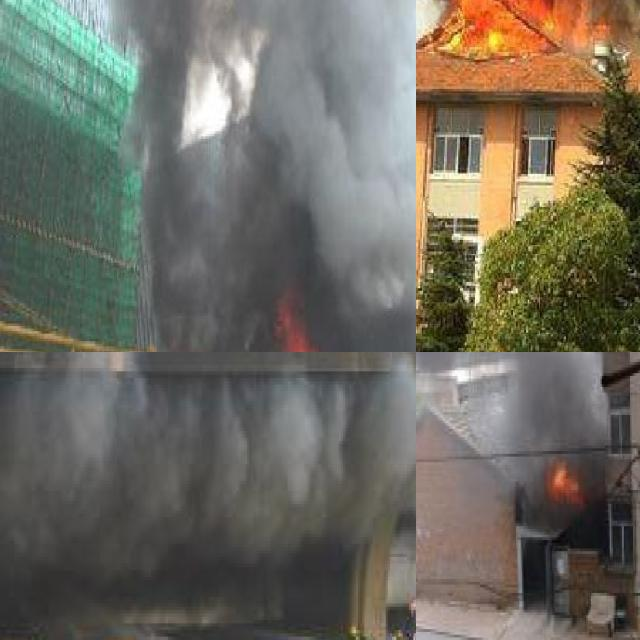fire: (436, 0, 607, 57), (279, 306, 319, 352), (547, 454, 582, 495)
smoke: (100, 0, 416, 352), (0, 359, 416, 573), (416, 352, 608, 456)
